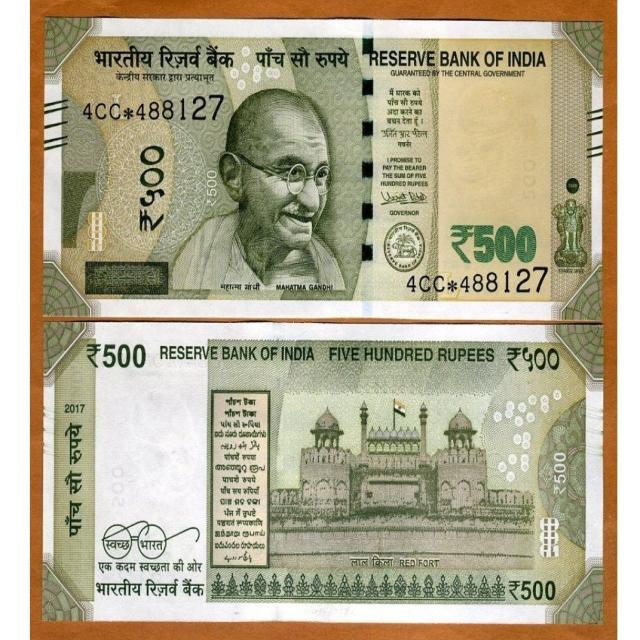500IndianRupees: (42, 325, 603, 619)
